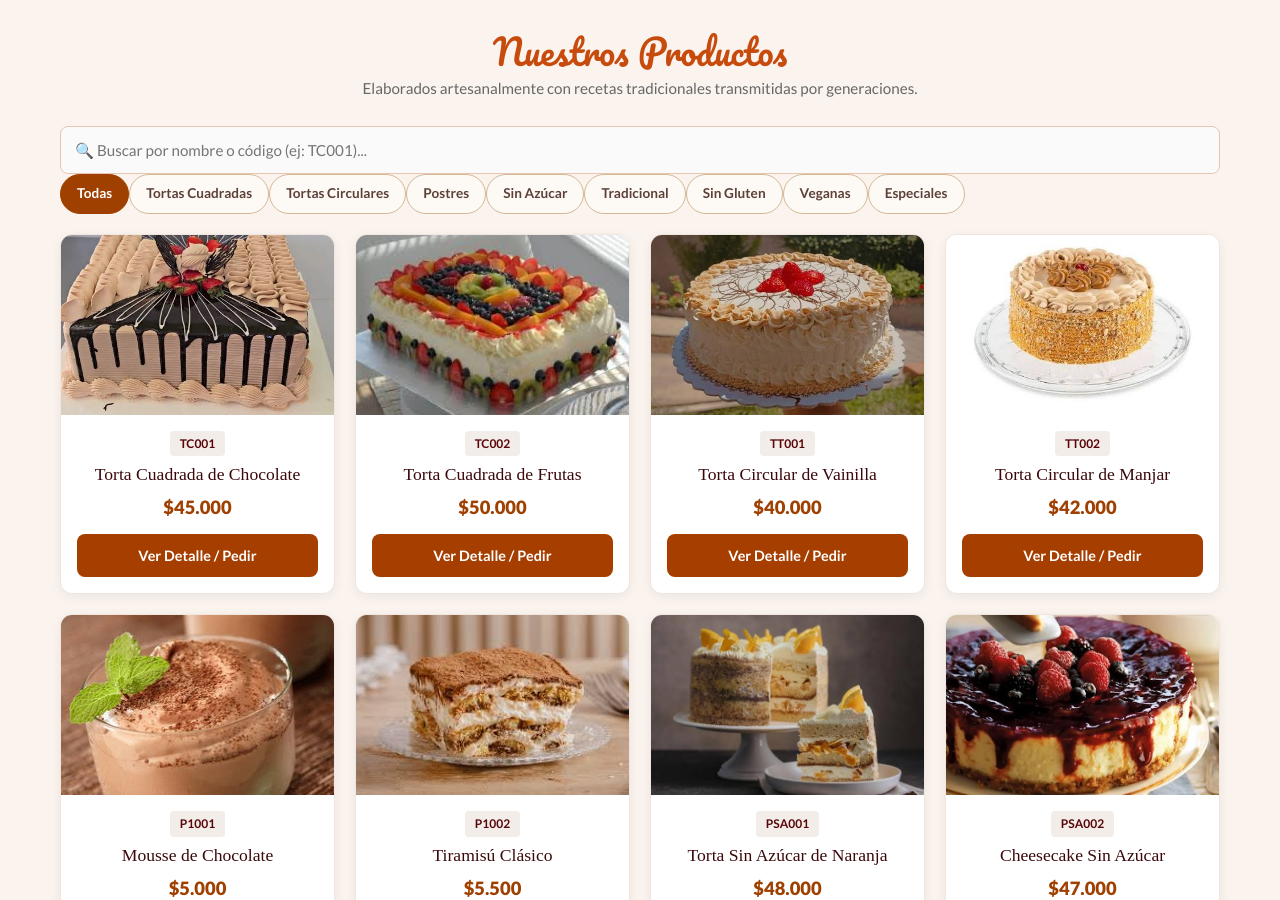
Scenario: Catálogo - filtro Tradicional y recetas › Debe filtrar los productos de Pastelería Tradicional
Click the button "Tradicional" at (635, 194), box [584,174,686,214]
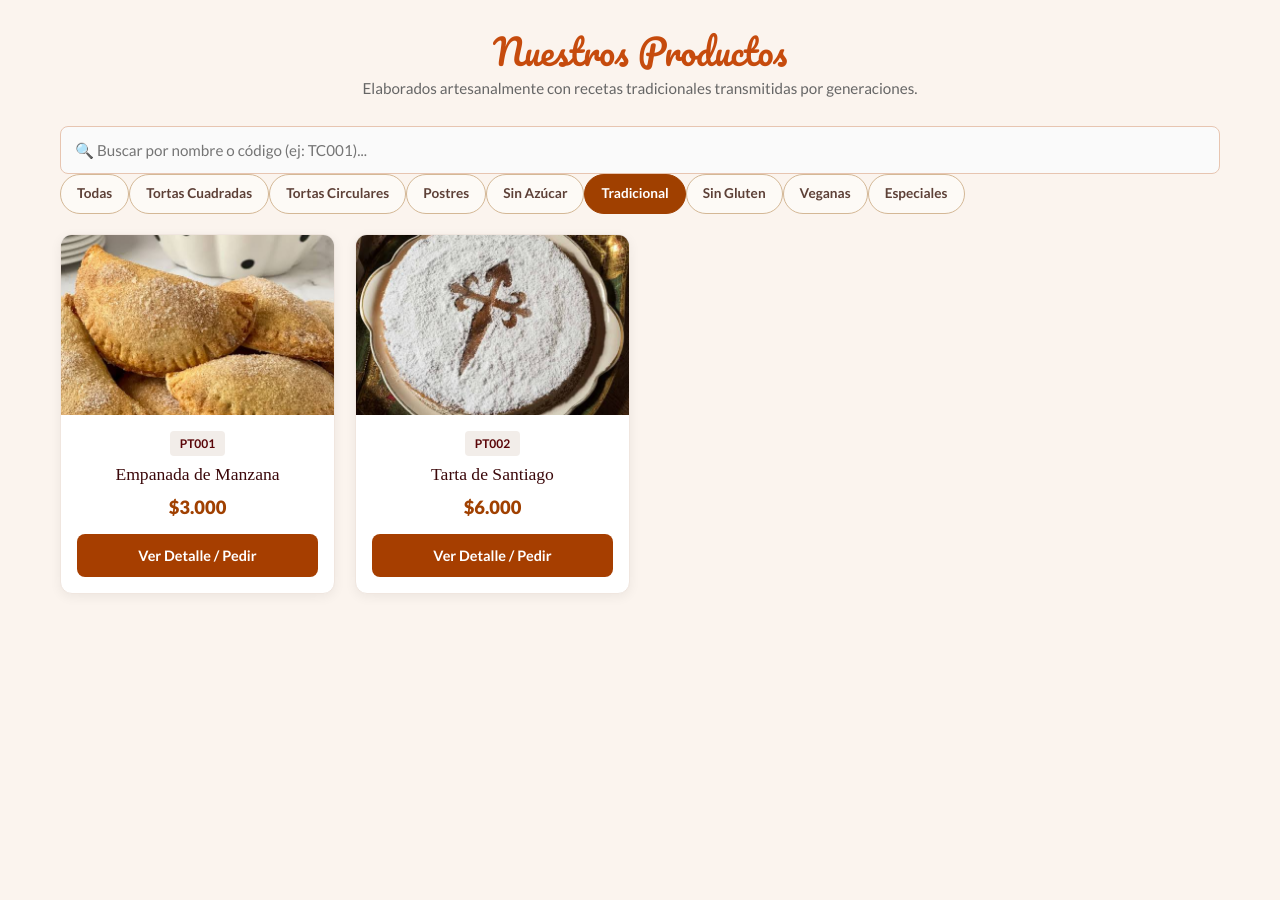
Check: the heading "Empanada de Manzana" is shown, box [115,464,280,485]
Check: the number of buttons "Ver Detalle / Pedir" is 2, box [77,534,318,577]; [372,534,613,577]
